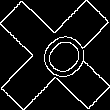O_SW: (21, 22, 89, 88)
